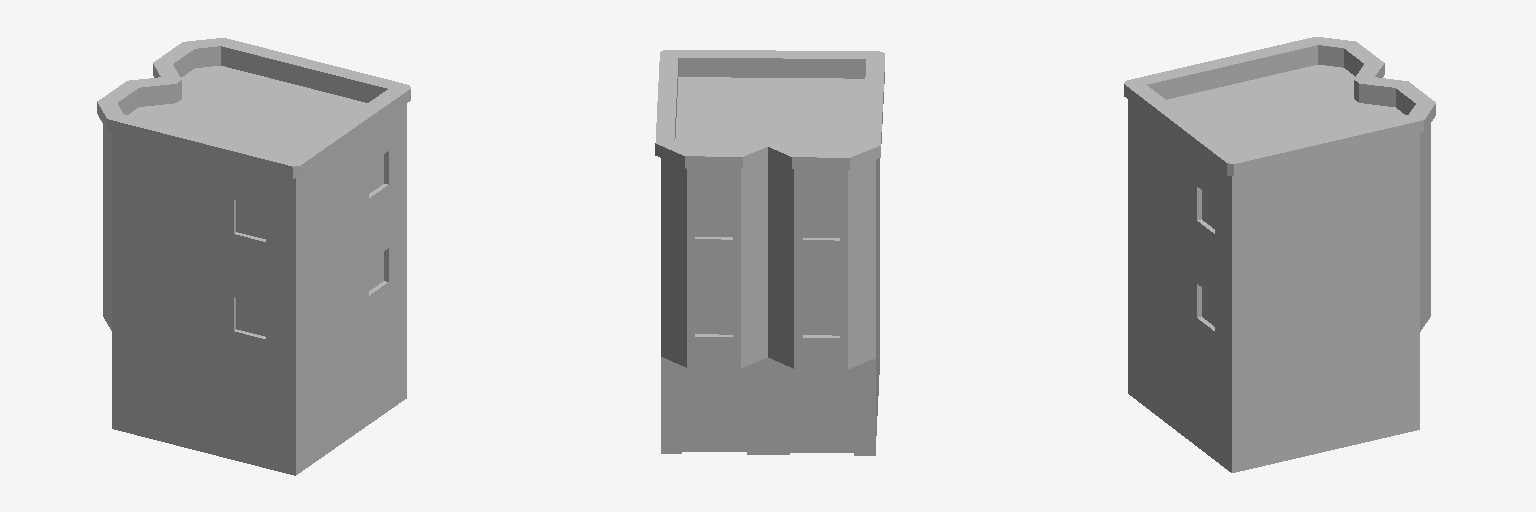
File: variant_4.obj
The picture shows the model from 3 angles: view 1: azimuth 30°, elevation 25°; view 2: azimuth 150°, elevation 25°; view 3: azimuth 270°, elevation 25°; orthographic projection.
Parts seen in each view (by area): view 1: small_buildingA; view 2: small_buildingA; view 3: small_buildingA.
Part boxes in pixels (bbox=[...]): small_buildingA: bbox=[97, 38, 410, 475]; small_buildingA: bbox=[655, 50, 884, 455]; small_buildingA: bbox=[1124, 37, 1435, 472].
Size of the model in its own units: 1.13 by 1.28 by 1.16.